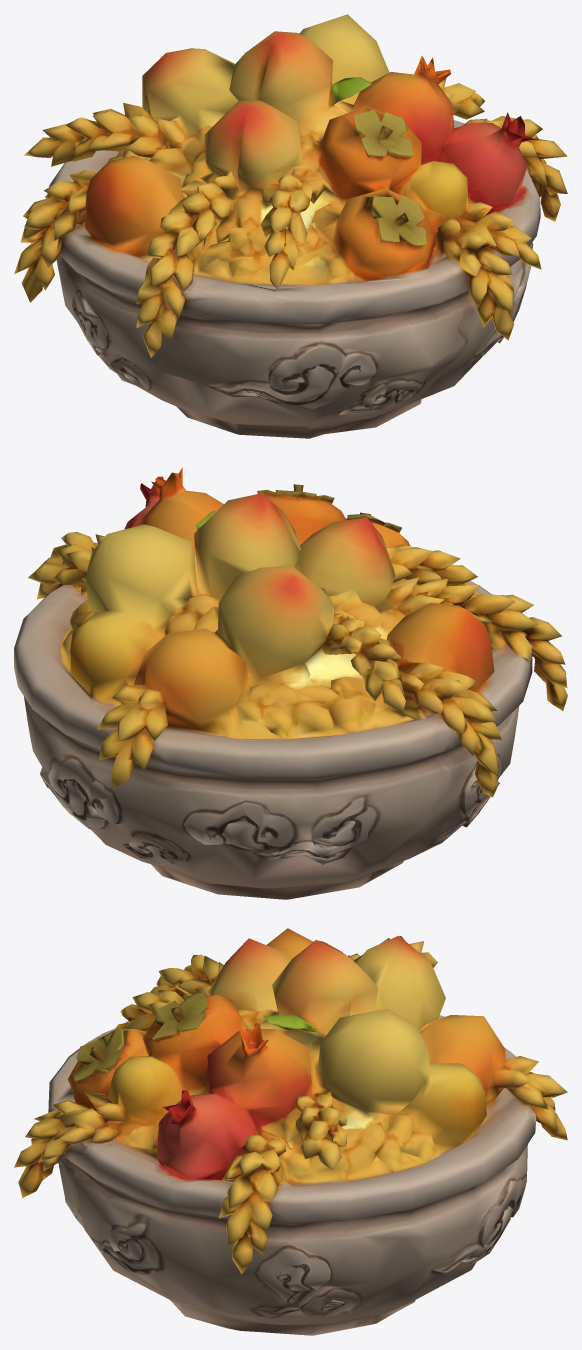
Rendered from tg_shishen.glb.
3 views of the same model, one above another, from view 1: azimuth 30°, elevation 25°; view 2: azimuth 150°, elevation 25°; view 3: azimuth 270°, elevation 25° (orthographic). The views are drawn at different scales.
Visible parts, largest first — view 1: tripo_node_65c4af2c-34ce-4465-b0b9-c325a60b4aa0; view 2: tripo_node_65c4af2c-34ce-4465-b0b9-c325a60b4aa0; view 3: tripo_node_65c4af2c-34ce-4465-b0b9-c325a60b4aa0.
Boxes of the visible parts, x1,y1,x2,y2 form: tripo_node_65c4af2c-34ce-4465-b0b9-c325a60b4aa0: [14, 14, 567, 438]; tripo_node_65c4af2c-34ce-4465-b0b9-c325a60b4aa0: [14, 467, 567, 899]; tripo_node_65c4af2c-34ce-4465-b0b9-c325a60b4aa0: [14, 928, 567, 1335].
Size of the model in its own units: 0.9825 by 0.6519 by 0.9623.
1 material, 1 textured.
